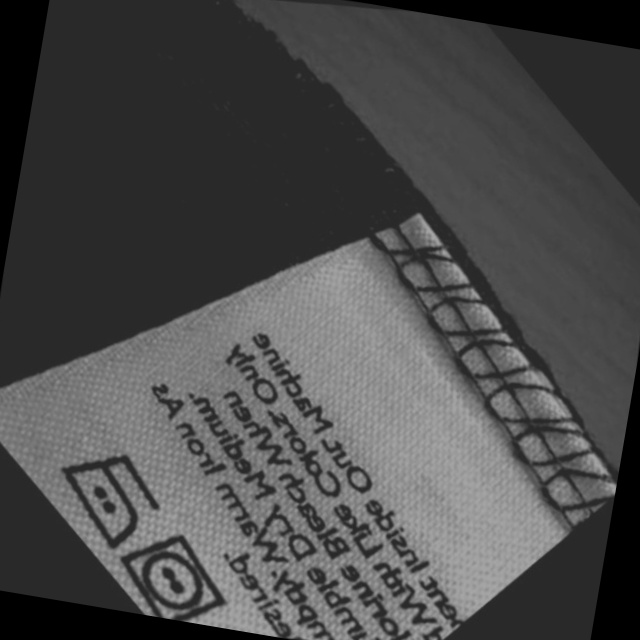iron_medium: (42, 440, 169, 557)
tumble_dry_medium: (107, 523, 236, 628)
